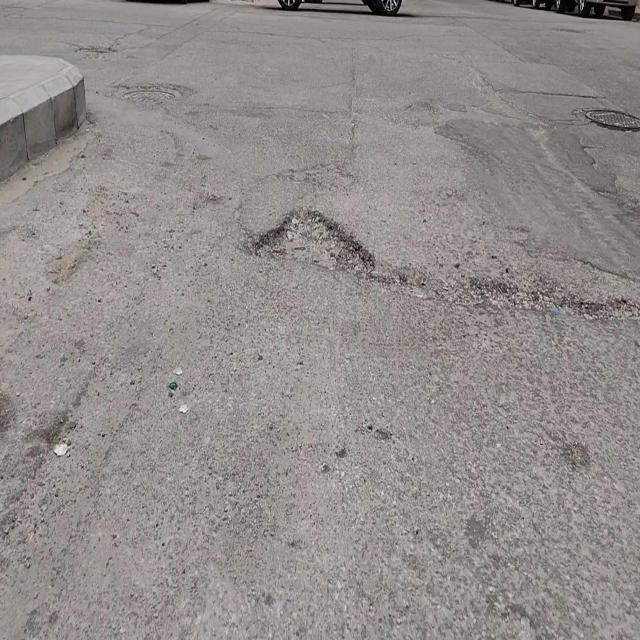Pothole: (250, 204, 376, 281)
